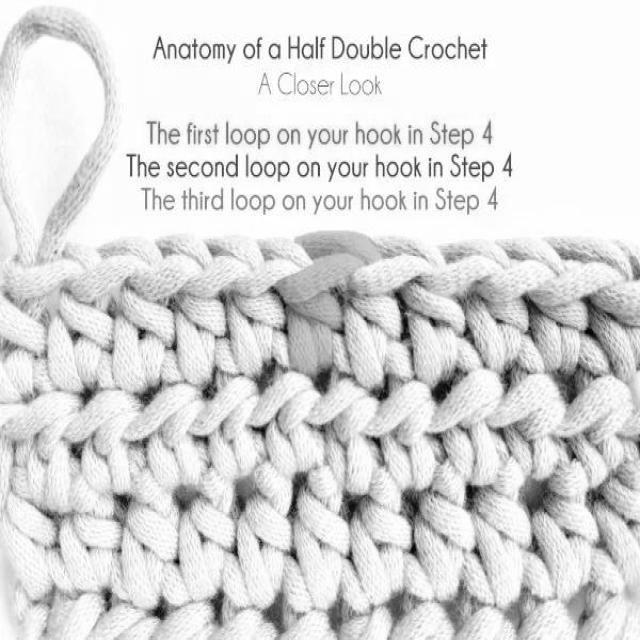hdc: (49, 238, 164, 393), (341, 229, 449, 390), (399, 241, 509, 391), (0, 241, 100, 397), (275, 231, 383, 373), (113, 236, 211, 388), (527, 233, 630, 375), (174, 236, 264, 393), (464, 238, 564, 378), (120, 351, 207, 494), (4, 359, 82, 518), (308, 331, 380, 498), (549, 355, 636, 491), (229, 239, 313, 379), (247, 327, 324, 479), (62, 355, 144, 492), (486, 335, 561, 481), (115, 440, 180, 608), (411, 436, 475, 605), (187, 337, 261, 482), (535, 435, 597, 604), (367, 339, 435, 493), (473, 428, 529, 609), (431, 342, 501, 485), (235, 435, 289, 608), (297, 432, 350, 608), (350, 451, 409, 607), (3, 453, 59, 612), (58, 460, 124, 593), (180, 454, 234, 601), (591, 441, 640, 588)
